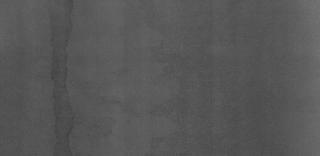water spot: (41, 7, 93, 156)
